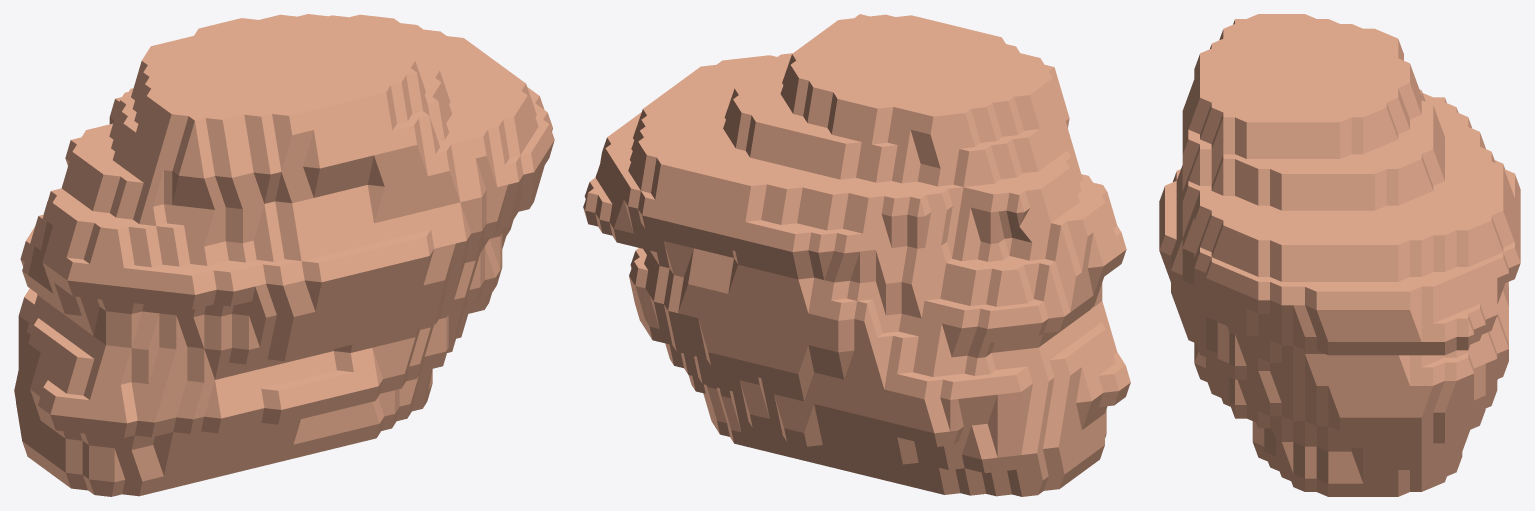
The model's file is lesion.glb.
3 renders of one model, left to right at view 1: azimuth 30°, elevation 25°; view 2: azimuth 150°, elevation 25°; view 3: azimuth 270°, elevation 25°, orthographic. The views are drawn at different scales.
Visible parts, largest first — view 1: world; view 2: world; view 3: world.
Part boxes in pixels (x1=…): world: x1=14, y1=14, x2=554, y2=496; world: x1=583, y1=14, x2=1130, y2=496; world: x1=1159, y1=14, x2=1520, y2=496.
Bounding box in the file's own units: 0.0312 × 0.022 × 0.0206.
